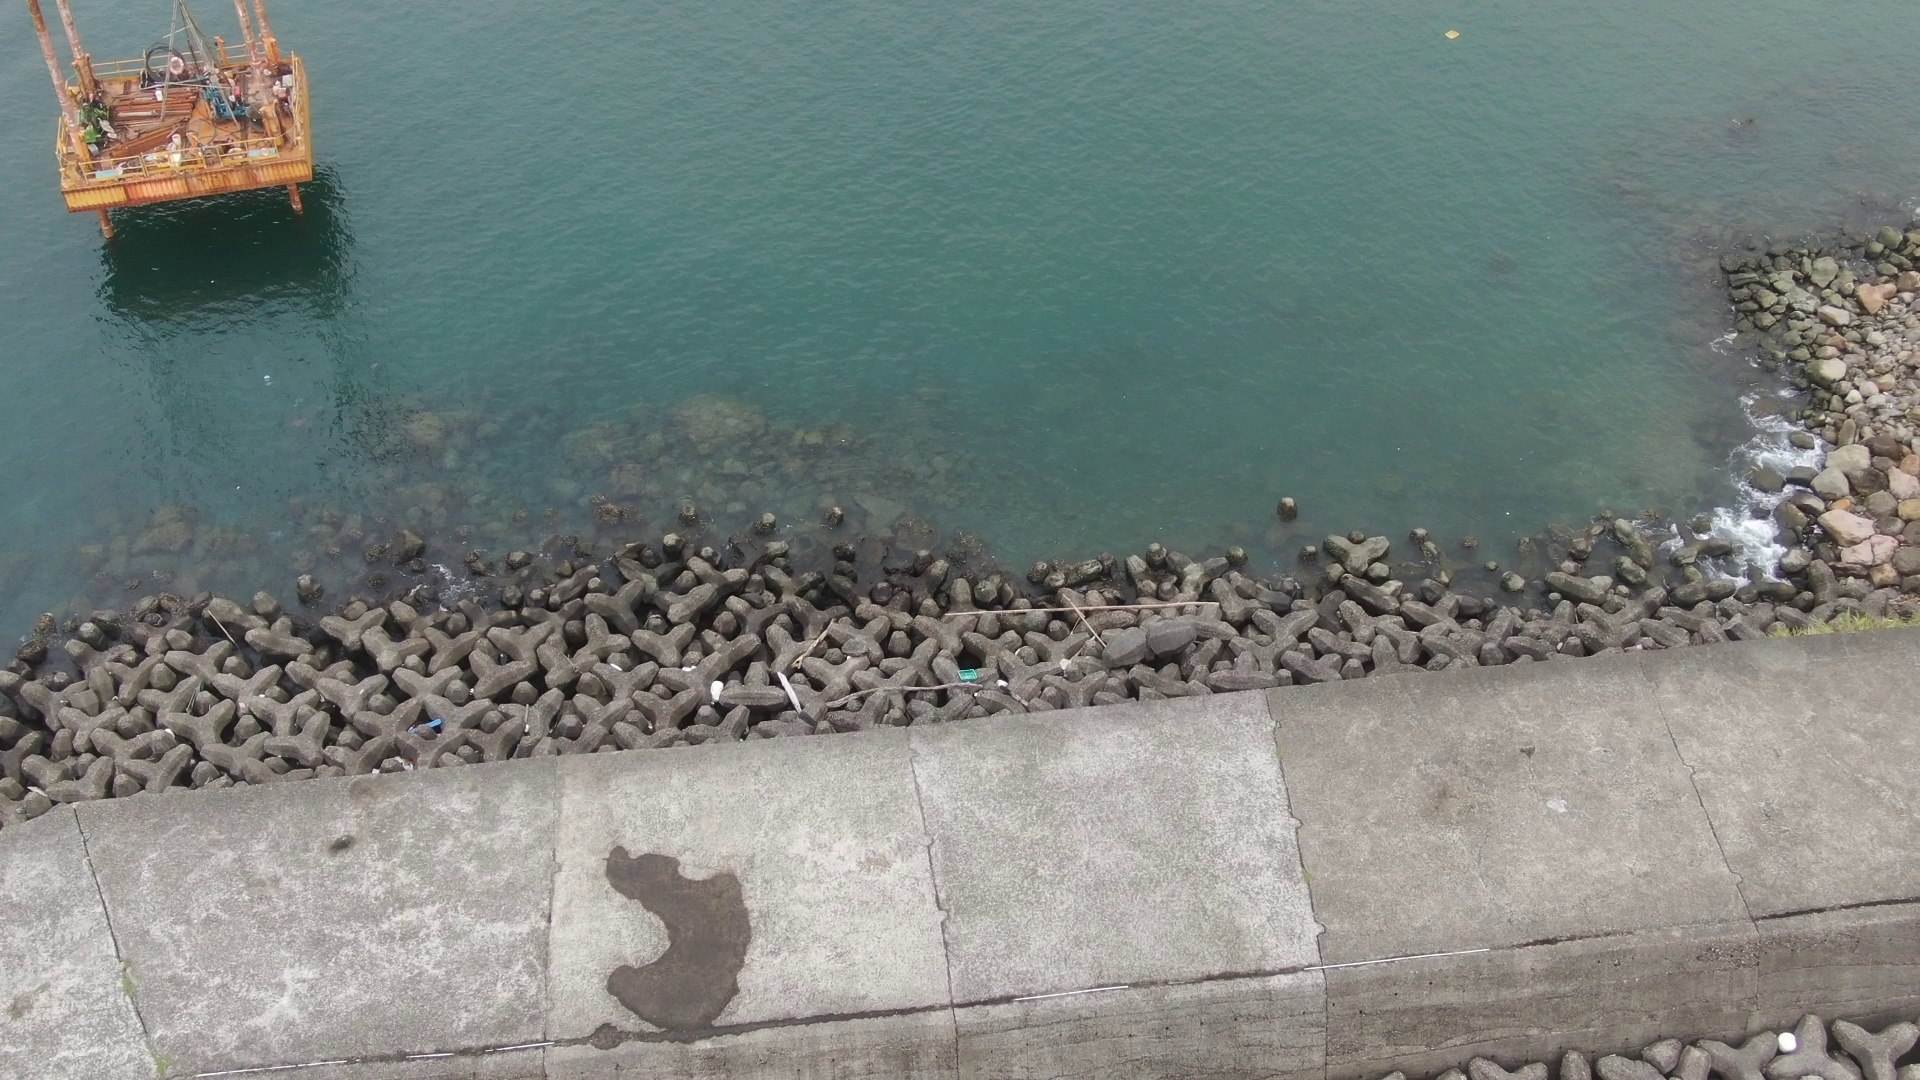garbage: (952, 661, 989, 694), (415, 708, 454, 740), (1774, 1029, 1805, 1062), (703, 673, 731, 705), (1443, 17, 1470, 45)
